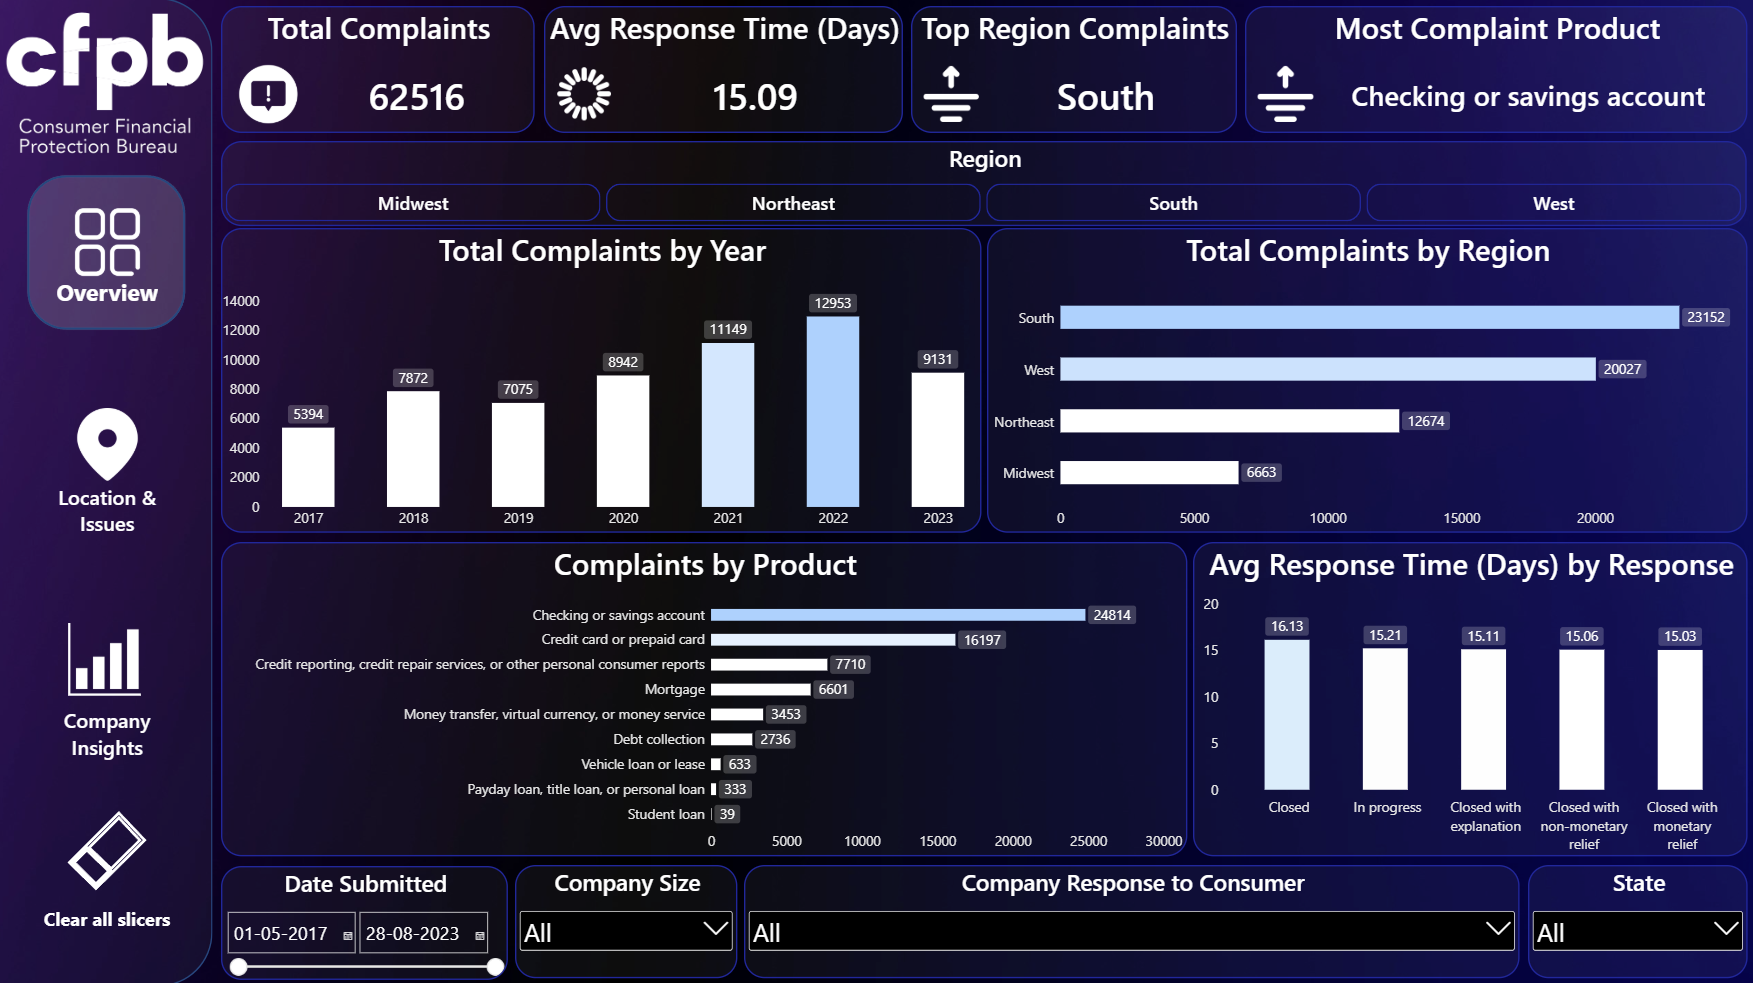

What the dashboard file says about the page in this screenshot:
{"tool":"powerbi","page":{"name":"Overview","canvas":[2560,1440],"ordinal":0},"visuals":[{"type":"shape","box":[0,0,314.1,1440.2],"z":0},{"type":"pageNavigator","box":[30.1,249,260.1,878.7],"z":1000},{"type":"image","box":[98.3,910.4,117.4,106.3],"z":2000},{"type":"image","box":[101.5,598,117.4,106.3],"z":3000},{"type":"image","box":[101.5,304.5,117.4,106.3],"z":4000},{"type":"image","box":[0,11.1,314.1,223.6],"z":5000},{"type":"shape","box":[42.9,257.1,234,228.7],"z":6000},{"type":"cardVisual","title":"Total Complaints","fields":{"Data":["DAX Measures.Total Complaints"]},"box":[326.7,11.7,456.7,185],"z":7000},{"type":"cardVisual","title":"Avg Response Time (Days)","fields":{"Data":["DAX Measures.Average Response Time (Days)"]},"box":[796.7,11.7,523.3,185],"z":8000},{"type":"cardVisual","title":"Top Region Complaints","fields":{"Data":["DAX Measures.Top Region by Complaints"]},"box":[1331.7,11.7,475,185],"z":9000},{"type":"cardVisual","title":"Most Complaint Product","fields":{"Data":["DAX Measures.Most Comman Complaint Product"]},"box":[1818,12,732,185],"z":10000},{"type":"slicer","title":"Date Submitted","fields":{"Values":["Complaints.Date submitted"]},"box":[326,1264,418,166],"z":11000},{"type":"slicer","title":"Company Size","fields":{"Values":["Company.Company_Size_Tier"]},"box":[755,1263.8,323.8,165],"z":12000},{"type":"slicer","title":"Company Response to Consumer","fields":{"Values":["Complaints.Company response to consumer"]},"box":[1088.3,1263.3,1130,165],"z":13000},{"type":"slicer","title":"State","fields":{"Values":["Complaints.State Full Name"]},"box":[2230,1263.3,320,165],"z":14000},{"type":"advancedSlicerVisual","title":"Region","fields":{"Values":["Complaints.Census_Region"]},"box":[327,208,2223,124],"z":15000},{"type":"clusteredColumnChart","fields":{"Category":["Complaints.Date submitted.Variation.Date Hierarchy.Year","Complaints.Date submitted.Variation.Date Hierarchy.Month"],"Y":["DAX Measures.Total Complaints"]},"box":[326.7,335.6,1107.8,444.4],"z":16000},{"type":"clusteredBarChart","title":"Total Complaints by Region","fields":{"Category":["Complaints.Census_Region"],"Y":["DAX Measures.Total Complaints"]},"box":[1442.5,335,1107.8,444.4],"z":17000},{"type":"clusteredBarChart","title":"Complaints by Product","fields":{"Category":["Complaints.Product","Complaints.Sub-product"],"Y":["DAX Measures.Total Complaints"]},"box":[326.2,792.5,1407.5,457.5],"z":18000},{"type":"clusteredColumnChart","title":"Avg Response Time (Days) by Response","fields":{"Category":["Complaints.Company response to consumer"],"Y":["DAX Measures.Average Response Time (Days)"]},"box":[1742,792,808,458],"z":19000},{"type":"actionButton","box":[43.3,1168.3,233.3,205],"z":20000}]}

Visuals, with their boxes in screenshot pixels (x1, y1, x2, y2), scaled from the page's 2560x1440 canvas onto the 1753x983 screenshot:
shape: [0,0,215,982]
pageNavigator: [21,170,199,770]
image: [67,621,148,694]
image: [70,408,150,481]
image: [70,208,150,280]
image: [0,8,215,160]
shape: [29,176,190,332]
"Total Complaints" cardVisual: [224,8,536,134]
"Avg Response Time (Days)" cardVisual: [546,8,904,134]
"Top Region Complaints" cardVisual: [912,8,1237,134]
"Most Complaint Product" cardVisual: [1245,8,1746,134]
"Date Submitted" slicer: [223,863,509,976]
"Company Size" slicer: [517,863,739,975]
"Company Response to Consumer" slicer: [745,862,1519,975]
"State" slicer: [1527,862,1746,975]
"Region" advancedSlicerVisual: [224,142,1746,227]
clusteredColumnChart - Complaints.Date submitted.Variation.Date Hierarchy.Year x Complaints.Date submitted.Variation.Date Hierarchy.Month: [224,229,982,532]
"Total Complaints by Region" clusteredBarChart: [988,229,1746,532]
"Complaints by Product" clusteredBarChart: [223,541,1187,853]
"Avg Response Time (Days) by Response" clusteredColumnChart: [1193,541,1746,853]
actionButton: [30,798,189,937]
